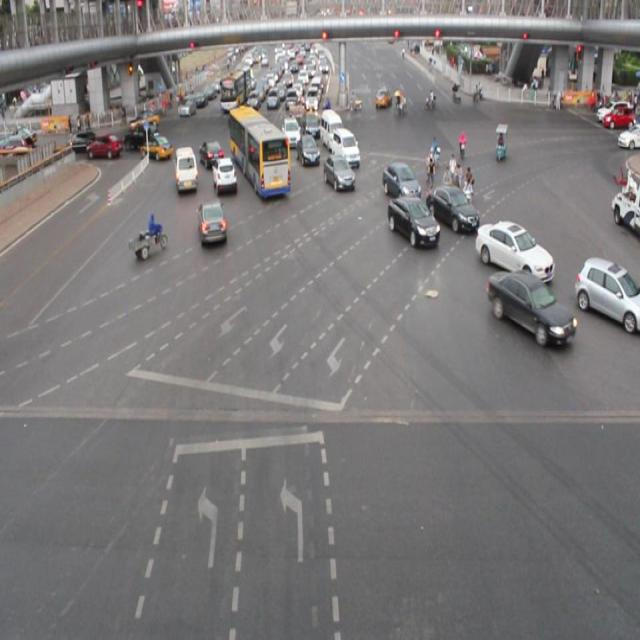car: (487, 271, 574, 344), (473, 221, 553, 283), (573, 256, 640, 329), (386, 195, 439, 245), (426, 184, 478, 234), (380, 162, 422, 201), (198, 196, 226, 246), (330, 128, 360, 168), (323, 155, 354, 191), (211, 156, 237, 195), (87, 133, 121, 162), (141, 134, 172, 162), (198, 139, 223, 170), (297, 132, 320, 164)
truck: (174, 147, 198, 191)
van: (229, 107, 290, 199)
